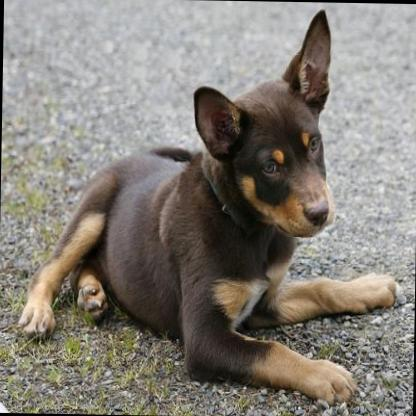kelpie: (14, 1, 412, 408)
